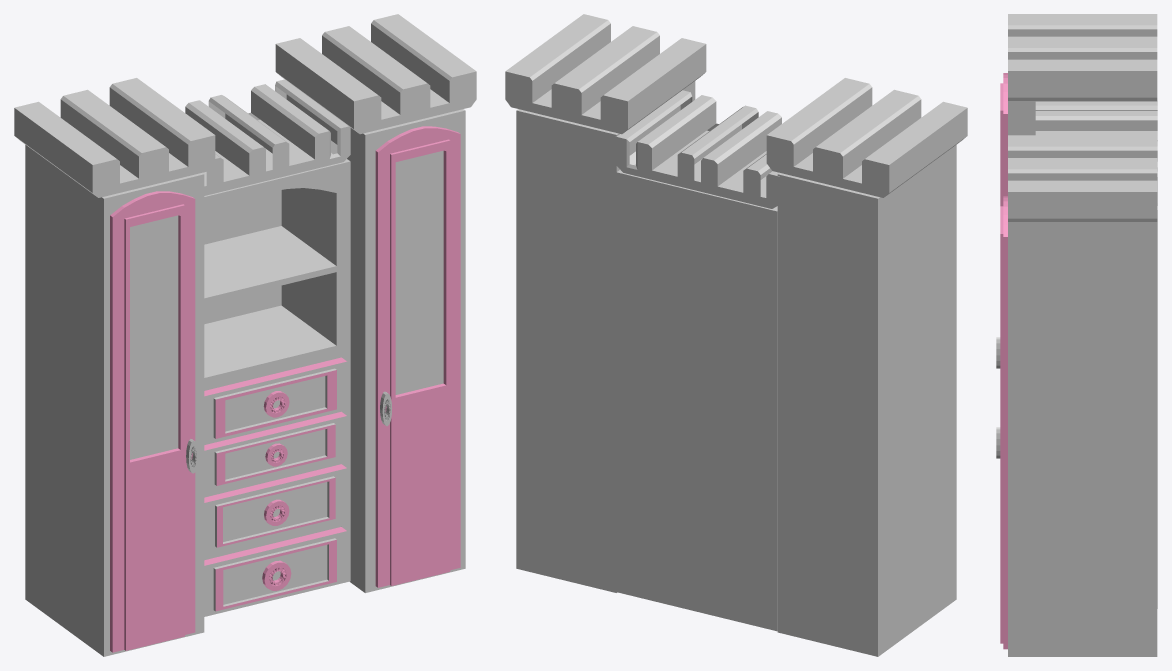
Rendered from dresser.fbx.
3 renders of one model, left to right at view 1: azimuth 30°, elevation 25°; view 2: azimuth 150°, elevation 25°; view 3: azimuth 270°, elevation 25°, orthographic. The views are drawn at different scales.
Visible parts, largest first — view 1: Cube, Gear.005, Cube.008, Cube.002, Cube.004, Cube.003, Cube.001, Cube.006, Cube.005; view 2: Cube, Cube.002, Cube.004; view 3: Cube, Cube.004, Cube.008, Gear.005, Cube.002.
Boxes of the visible parts, x1=… form: Cube: x1=14, y1=14, x2=476, y2=656; Gear.005: x1=110, y1=191, x2=198, y2=652; Cube.008: x1=375, y1=126, x2=460, y2=587; Cube.002: x1=204, y1=159, x2=350, y2=616; Cube.004: x1=185, y1=79, x2=350, y2=195; Cube.003: x1=204, y1=527, x2=347, y2=616; Cube.001: x1=204, y1=464, x2=347, y2=553; Cube.006: x1=204, y1=357, x2=347, y2=443; Cube.005: x1=204, y1=411, x2=347, y2=490; Cube: x1=505, y1=14, x2=967, y2=656; Cube.002: x1=616, y1=169, x2=777, y2=631; Cube.004: x1=615, y1=90, x2=781, y2=208; Cube: x1=1008, y1=14, x2=1157, y2=656; Cube.004: x1=1035, y1=101, x2=1157, y2=205; Cube.008: x1=1000, y1=196, x2=1007, y2=649; Gear.005: x1=996, y1=73, x2=1007, y2=368; Cube.002: x1=1157, y1=206, x2=1157, y2=608.
Size of the model in its own units: 256 by 315 by 98.19.
